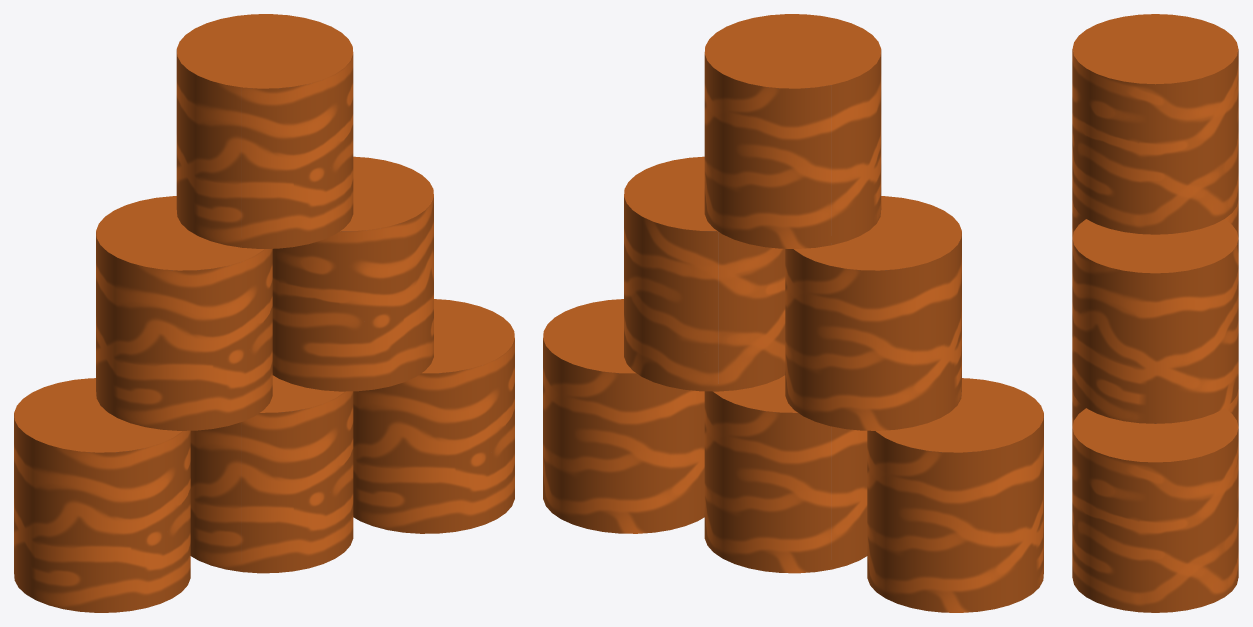
The model's file is Level1-1-Cylinders.fbx.
3 renders of one model, left to right at view 1: azimuth 30°, elevation 25°; view 2: azimuth 150°, elevation 25°; view 3: azimuth 270°, elevation 25°, orthographic. The views are drawn at different scales.
Parts seen in each view (by area): view 1: Cylinder.004, Cylinder.001, Cylinder.003, Cylinder.005, Cylinder.002, Cylinder; view 2: Cylinder.004, Cylinder.001, Cylinder.003, Cylinder.005, Cylinder.002, Cylinder; view 3: Cylinder.004, Cylinder.005, Cylinder.002, Cylinder, Cylinder.003.
Part boxes in pixels (left/top/right/bottom): Cylinder.004: left=176, top=14, right=353, bottom=248; Cylinder.001: left=14, top=378, right=190, bottom=612; Cylinder.003: left=96, top=196, right=272, bottom=430; Cylinder.005: left=272, top=156, right=433, bottom=391; Cylinder.002: left=353, top=299, right=514, bottom=533; Cylinder: left=190, top=375, right=353, bottom=573; Cylinder.004: left=704, top=14, right=881, bottom=248; Cylinder.001: left=867, top=378, right=1043, bottom=612; Cylinder.003: left=785, top=196, right=961, bottom=430; Cylinder.005: left=624, top=156, right=785, bottom=391; Cylinder.002: left=543, top=299, right=704, bottom=533; Cylinder: left=704, top=375, right=867, bottom=573; Cylinder.004: left=1072, top=14, right=1238, bottom=234; Cylinder.005: left=1072, top=219, right=1238, bottom=423; Cylinder.002: left=1072, top=408, right=1238, bottom=612; Cylinder: left=1072, top=389, right=1238, bottom=426; Cylinder.003: left=1072, top=200, right=1238, bottom=237.
Size of the model in its own units: 832 by 807 by 267.
